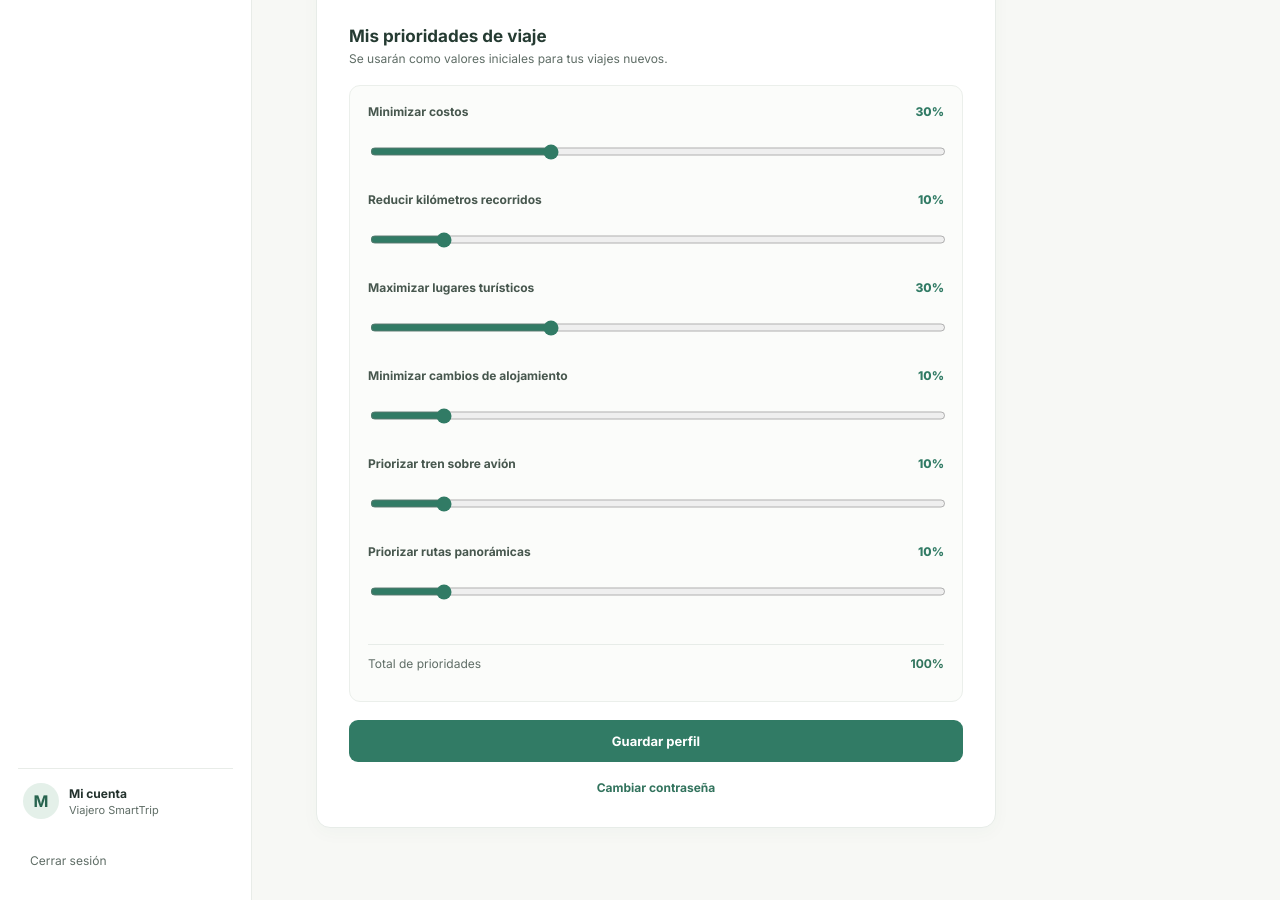
Test: Profile › muestra el error del servidor y el de cada campo
The image size is (1280, 900).
(page scrolled)
Click the button "Guardar perfil": click(656, 741) [349,720,963,762]
(page scrolled)
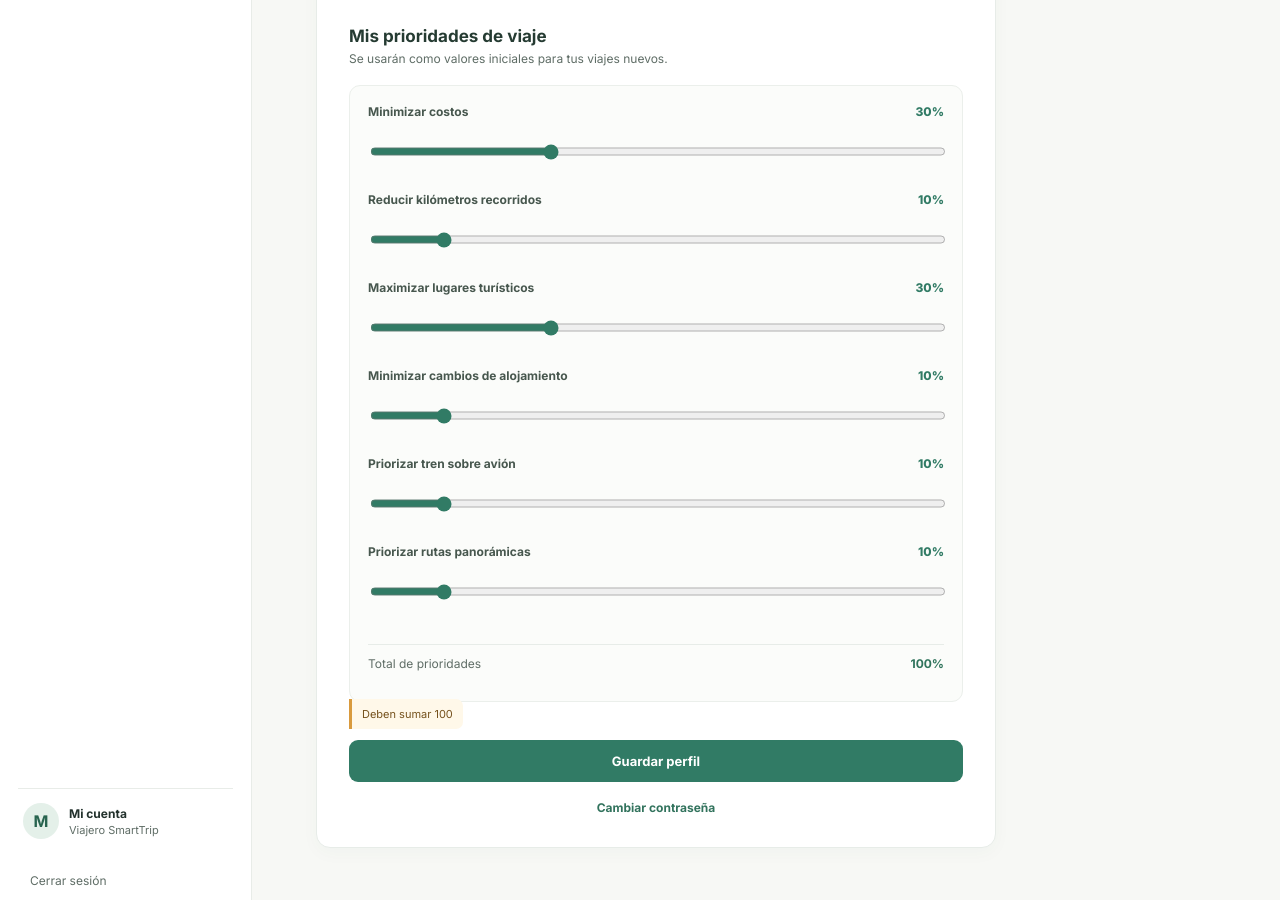
Result: the text "Deben sumar 100" is shown at [349,699,463,729]
